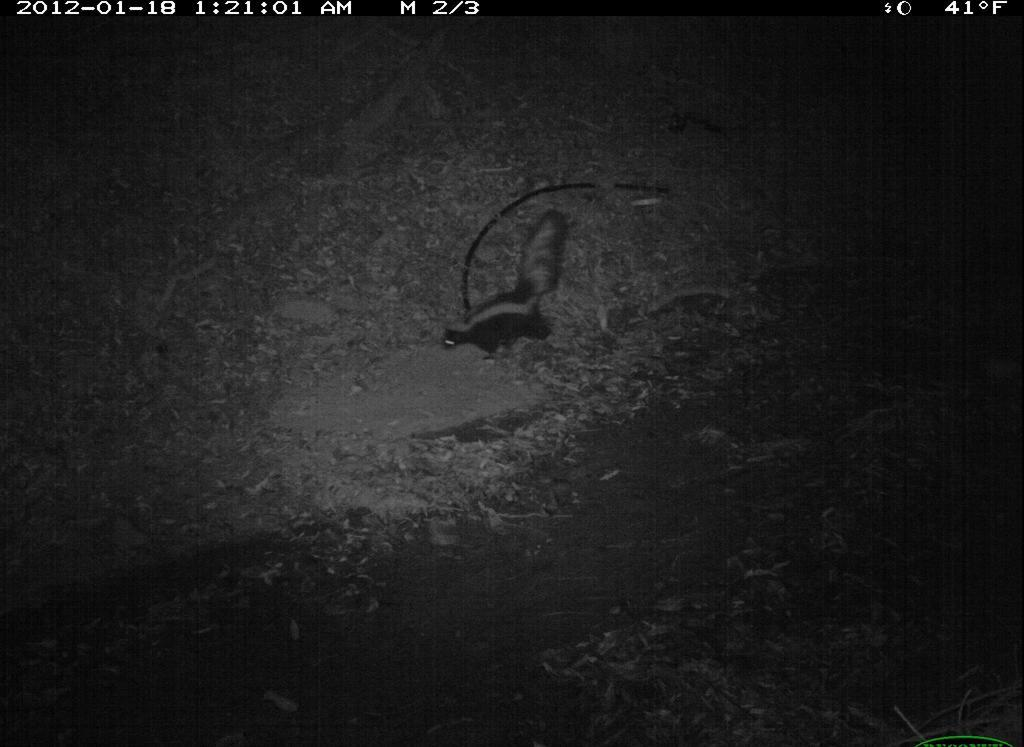skunk: (413, 199, 602, 381)
